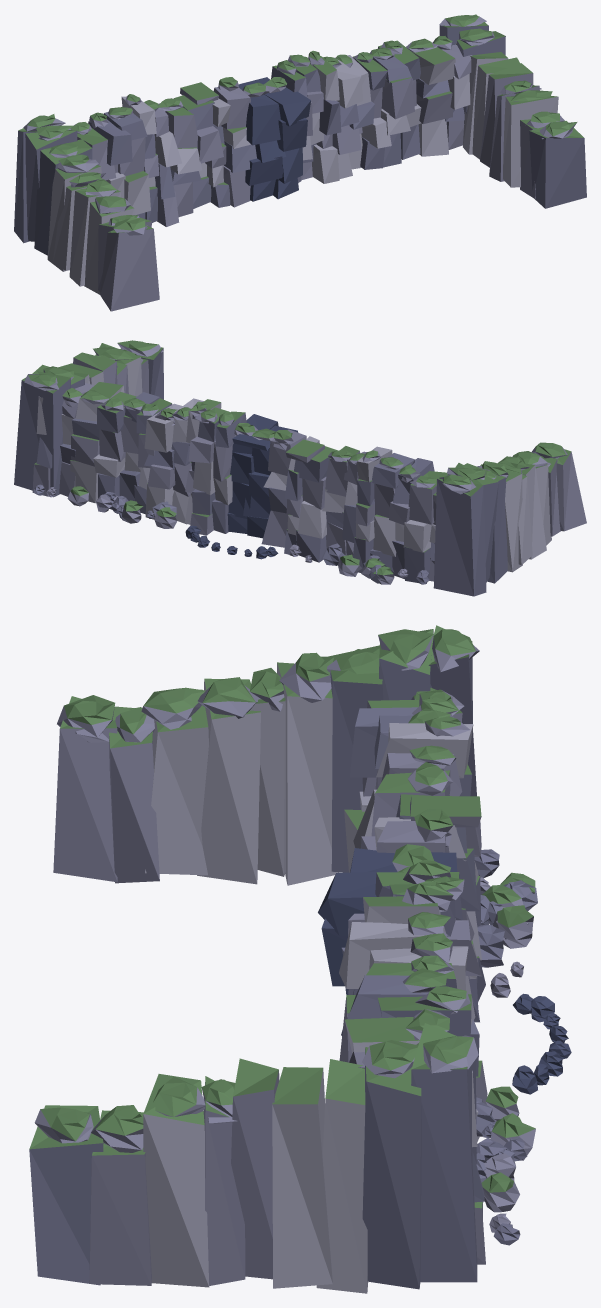
Rendered from veilscar-cliff.glb.
3 views of the same model, one above another, from view 1: azimuth 30°, elevation 25°; view 2: azimuth 150°, elevation 25°; view 3: azimuth 270°, elevation 25° (orthographic). The views are drawn at different scales.
Parts seen in each view (by area): view 1: veilscar-cliff; view 2: veilscar-cliff; view 3: veilscar-cliff.
Part boxes in pixels (left/top/right/bottom): veilscar-cliff: left=14, top=14, right=586, bottom=311; veilscar-cliff: left=14, top=340, right=586, bottom=596; veilscar-cliff: left=29, top=625, right=571, bottom=1293.
Size of the model in its own units: 80.48 by 19.75 by 39.99.
